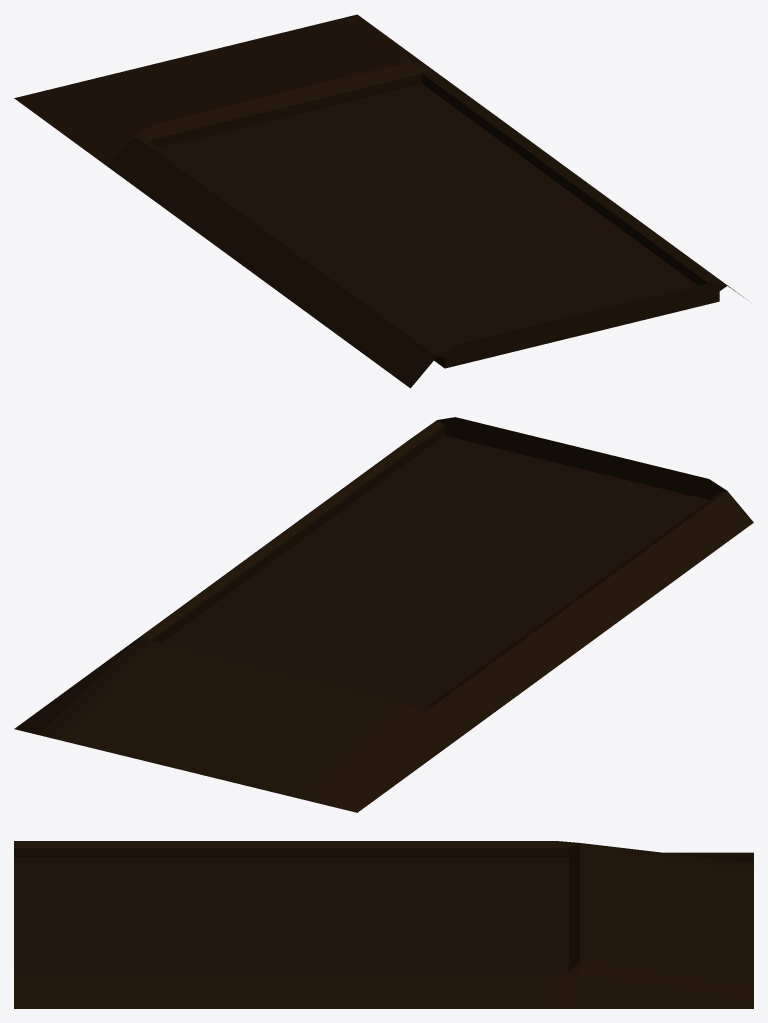
The model's file is Door.fbx.
The picture shows the model from 3 angles, top to bottom: view 1: azimuth 30°, elevation 25°; view 2: azimuth 150°, elevation 25°; view 3: azimuth 270°, elevation 25°; orthographic projection. The views are drawn at different scales.
Visible parts, largest first — view 1: Door; view 2: Door; view 3: Door.
Part boxes in pixels (bbox=[...]): Door: bbox=[14, 14, 748, 388]; Door: bbox=[14, 417, 753, 812]; Door: bbox=[14, 841, 753, 1008].
Bounding box in the file's own units: 200 × 18.19 × 400.
